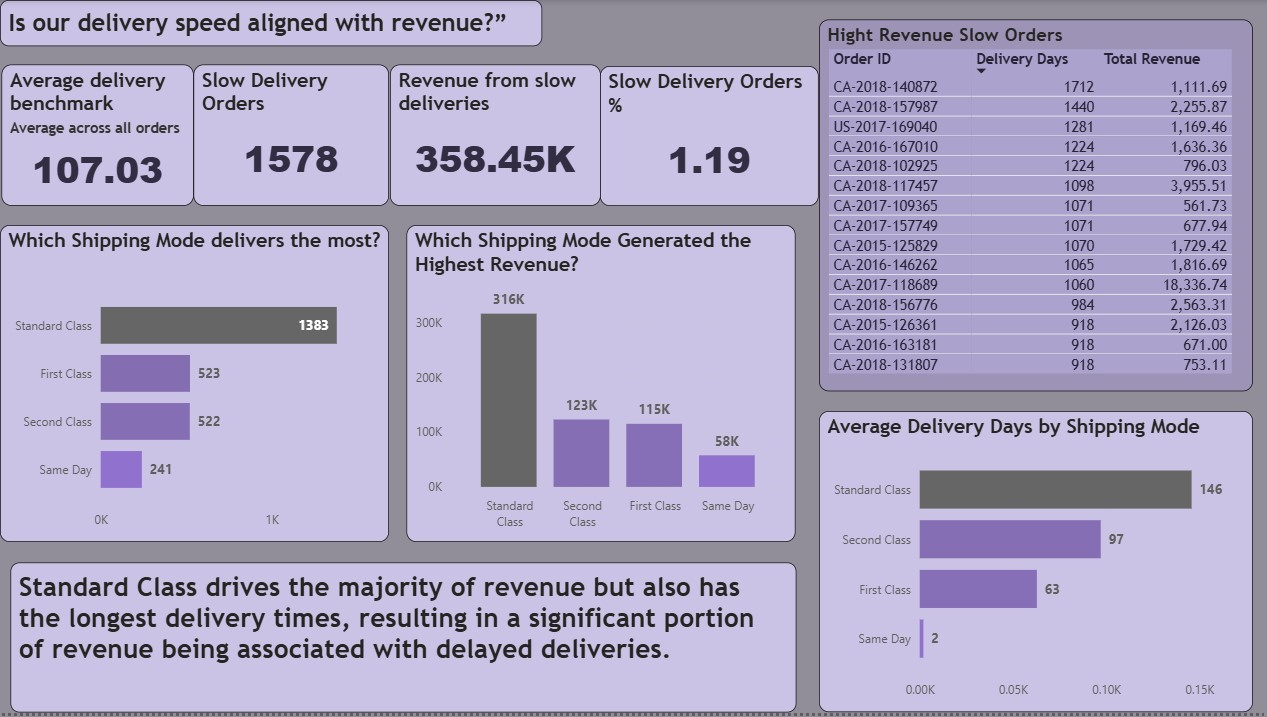

This screenshot's page, from the dashboard's own definition file:
{"tool":"powerbi","page":{"name":"Operations And Delivery Insights","canvas":[1280,720],"ordinal":3},"visuals":[{"type":"textbox","box":[0,0,547.3,46.9],"z":0},{"type":"barChart","title":"Which Shipping Mode delivers the most? ","fields":{"Category":["superstore.ship_mode"],"Y":["superstore.Orders by Ship Mode"]},"box":[0,227.6,392.7,319.7],"z":1000},{"type":"barChart","title":"Average Delivery Days by Shipping Mode","fields":{"Category":["superstore.ship_mode"],"Y":["superstore.Avg Delivery Days by Ship Mode"]},"box":[827.1,415.3,437.9,304.1],"z":2000},{"type":"columnChart","title":"Which Shipping Mode Generated the Highest Revenue?","fields":{"Category":["superstore.ship_mode"],"Y":["superstore.Revenue by Ship Mode"]},"box":[410.1,227.6,392.7,319.7],"z":3000},{"type":"card","title":"Average delivery benchmark","fields":{"Values":["superstore.Avg Delivery Benchmark"]},"box":[1.7,64.7,194.2,142.7],"z":4000},{"type":"tableEx","title":"Hight Revenue Slow Orders","fields":{"Values":["superstore.order_id","Sum(superstore.delievery_days)","Sum(superstore.sales)"]},"box":[827.1,19.1,437.9,375.3],"z":5000},{"type":"card","title":"Slow Delivery Orders","fields":{"Values":["superstore.Slow Delivery Orders"]},"box":[195.8,64.7,197.5,142.7],"z":6000},{"type":"card","title":"Revenue from slow deliveries","fields":{"Values":["superstore.Revenue from Slow Deliveries"]},"box":[393.3,64.7,212.4,142.7],"z":7000},{"type":"card","title":"Slow Delivery Orders %","fields":{"Values":["superstore.Slow Delivery Orders %"]},"box":[605.7,66.4,220.7,141.1],"z":8000},{"type":"textbox","box":[10,567.5,793.2,151],"z":9000}]}

Visuals, with their boxes in screenshot pixels (x1, y1, x2, y2), scaled from the page's 1280x720 canvas onto the 1267x717 screenshot:
textbox: bbox(0, 0, 542, 47)
"Which Shipping Mode delivers the most? " barChart: bbox(0, 227, 389, 545)
"Average Delivery Days by Shipping Mode" barChart: bbox(819, 414, 1252, 716)
"Which Shipping Mode Generated the Highest Revenue?" columnChart: bbox(406, 227, 795, 545)
"Average delivery benchmark" card: bbox(2, 64, 194, 207)
"Hight Revenue Slow Orders" tableEx: bbox(819, 19, 1252, 393)
"Slow Delivery Orders" card: bbox(194, 64, 389, 207)
"Revenue from slow deliveries" card: bbox(389, 64, 600, 207)
"Slow Delivery Orders %" card: bbox(600, 66, 818, 207)
textbox: bbox(10, 565, 795, 716)
